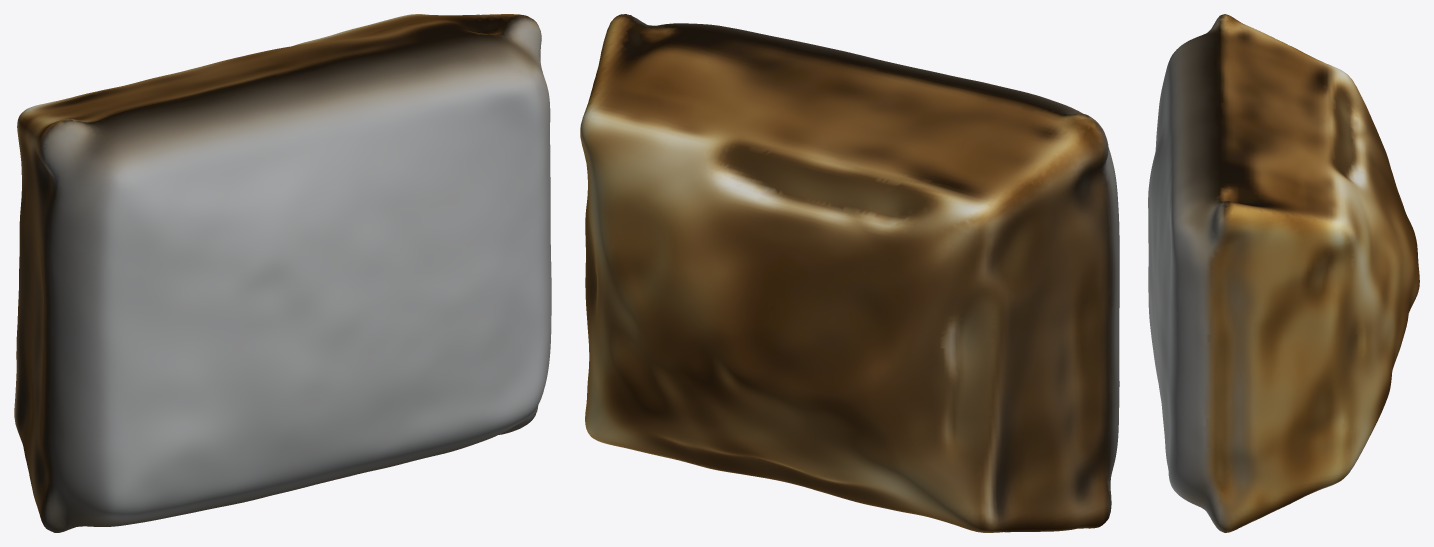
The model's file is soap.glb.
3 views of the same model, side by side, from view 1: azimuth 30°, elevation 25°; view 2: azimuth 150°, elevation 25°; view 3: azimuth 270°, elevation 25° (orthographic). The views are drawn at different scales.
Size of the model in its own units: 0.9991 by 0.8058 by 0.5855.
